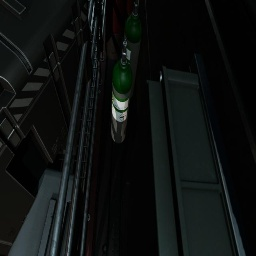0: (111, 39, 132, 144), (124, 0, 142, 98)
NitrogenTank ,: (105, 0, 125, 60), (122, 0, 135, 38)
